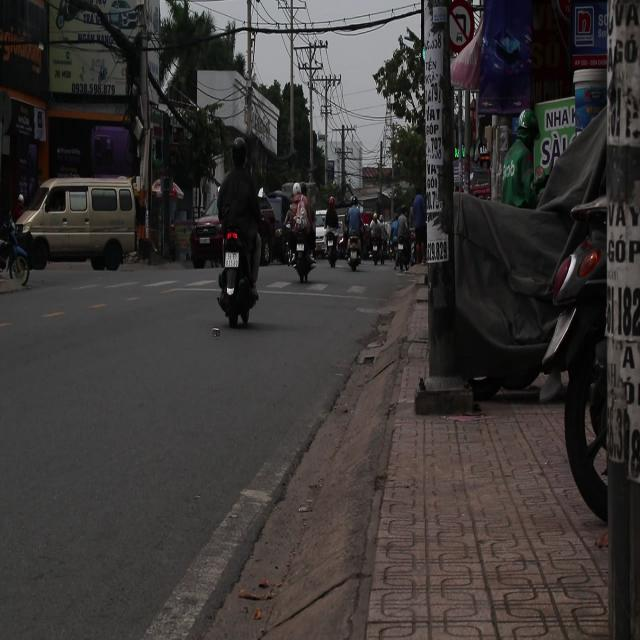car: (16, 175, 136, 274), (188, 207, 224, 266)
motorbike: (211, 203, 265, 338), (280, 215, 322, 287), (320, 223, 344, 281), (362, 228, 390, 267), (346, 234, 362, 270)
